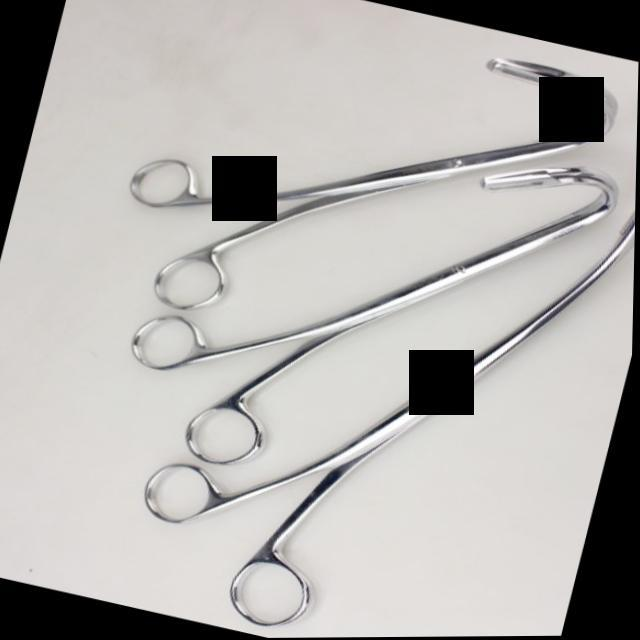Randall: (94, 72, 625, 552), (69, 0, 627, 397)
